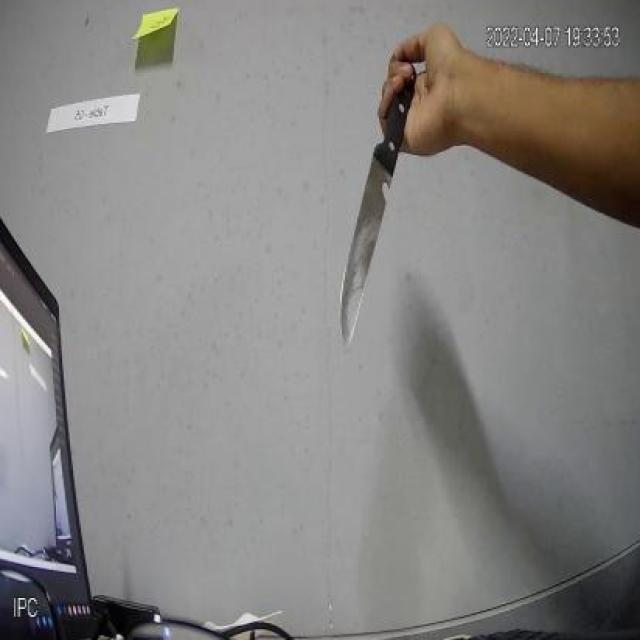Knife: (333, 51, 422, 356)
